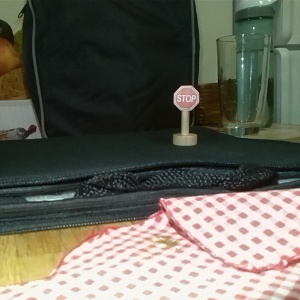stop sign: (171, 84, 200, 148)
